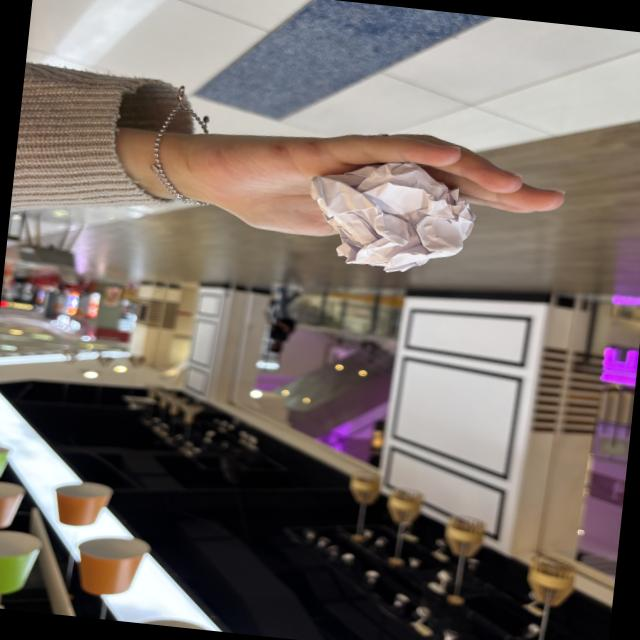crumpled_paper: (300, 148, 482, 284)
